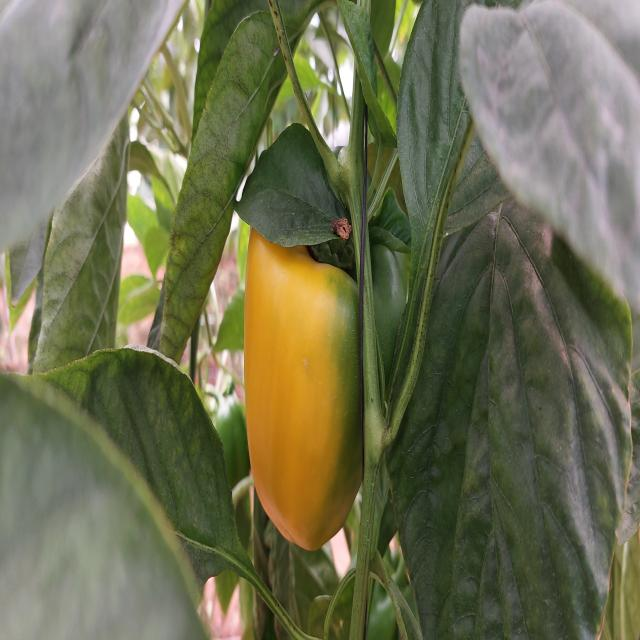Yellow-Ready-to-Harvest: (241, 218, 362, 554)
